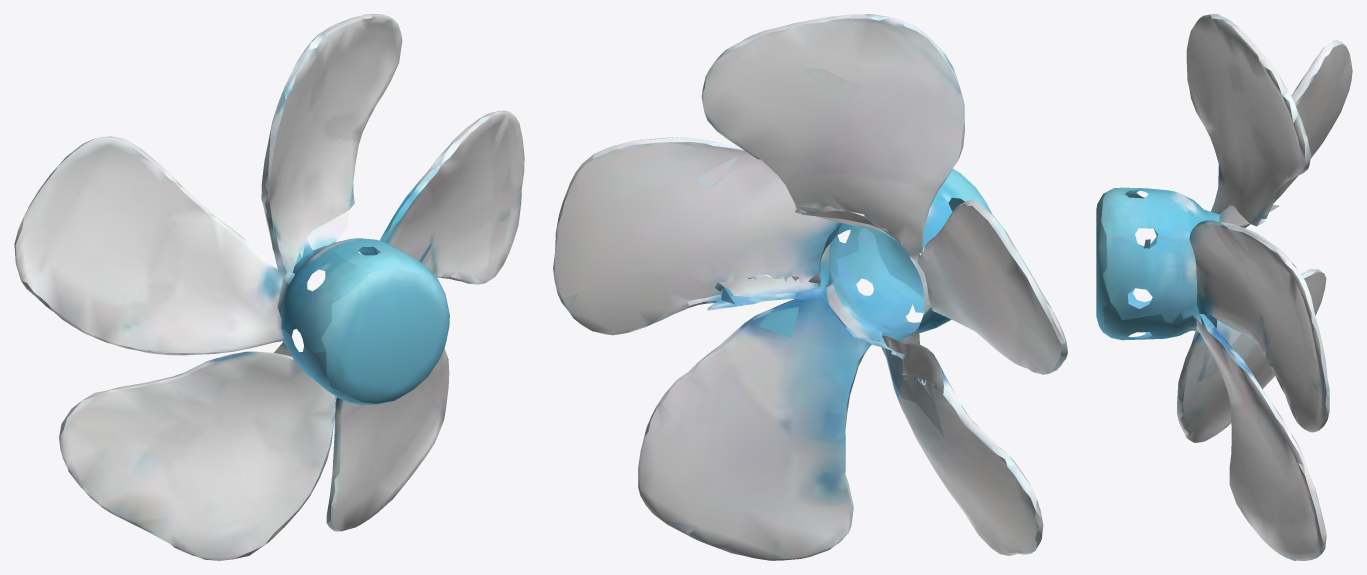
The model's file is rotor.glb.
3 views of the same model, side by side, from view 1: azimuth 30°, elevation 25°; view 2: azimuth 150°, elevation 25°; view 3: azimuth 270°, elevation 25° (orthographic). The views are drawn at different scales.
Visible parts, largest first — view 1: world; view 2: world; view 3: world.
Boxes of the visible parts, left/top/right/bottom form: world: left=14, top=14, right=524, bottom=560; world: left=553, top=14, right=1067, bottom=560; world: left=1096, top=14, right=1352, bottom=560.
Size of the model in its own units: 0.1595 by 0.1597 by 0.0743.
1 material, 1 textured.
